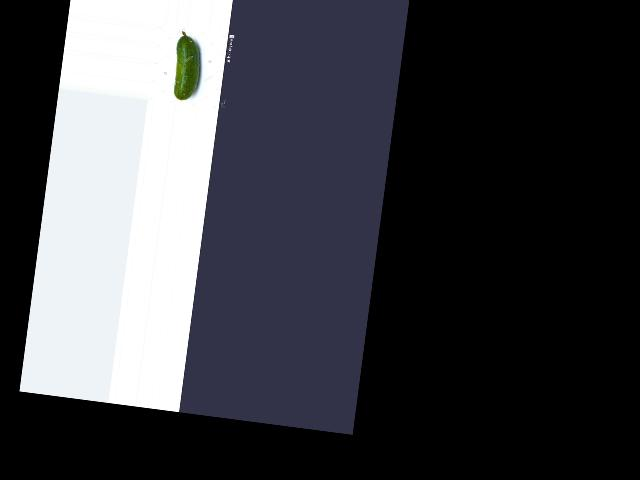cucumber: (169, 30, 204, 102)
